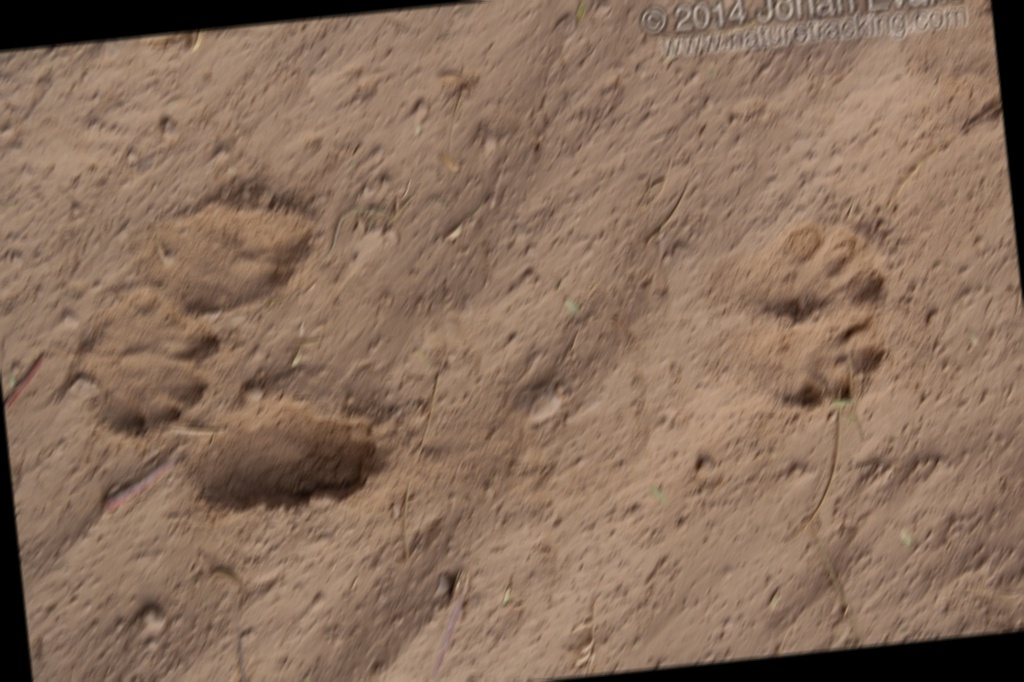rabbit: (36, 289, 244, 451)
